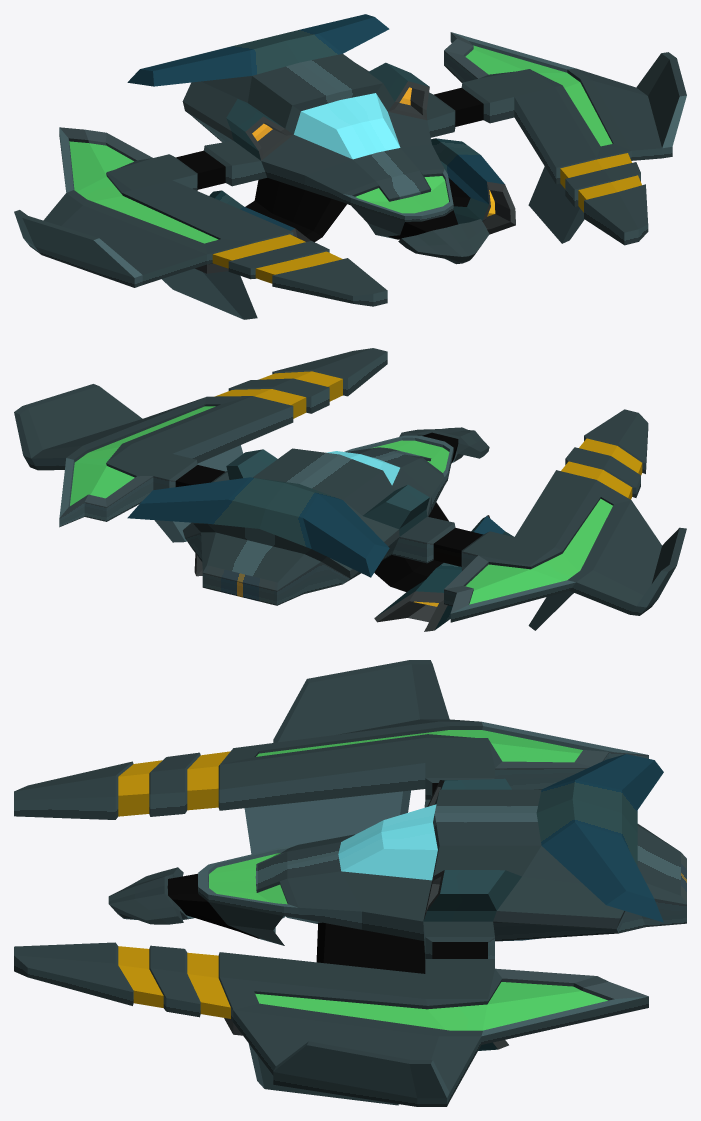
3 views of the same model, one above another, from view 1: azimuth 30°, elevation 25°; view 2: azimuth 150°, elevation 25°; view 3: azimuth 270°, elevation 25° (orthographic). The views are drawn at different scales.
Visible parts, largest first — view 1: Spaceship_0; view 2: Spaceship_0; view 3: Spaceship_0.
Part boxes in pixels (x1=…): Spaceship_0: x1=14, y1=14, x2=686, y2=319; Spaceship_0: x1=14, y1=348, x2=686, y2=631; Spaceship_0: x1=14, y1=660, x2=686, y2=1106.
Size of the model in its own units: 21.5 by 4.83 by 15.13.
Materials: 1 (1 with a texture image).
